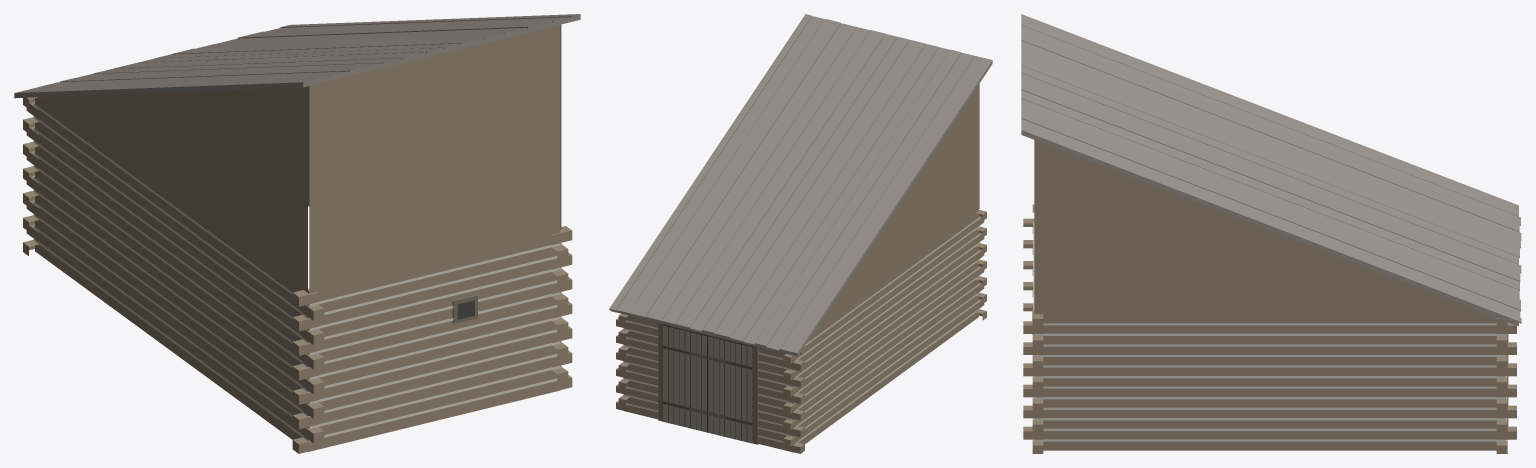
Rendered from north_bank_shed_dearborn_e2__shed_1835.glb.
3 renders of one model, left to right at view 1: azimuth 30°, elevation 25°; view 2: azimuth 150°, elevation 25°; view 3: azimuth 270°, elevation 25°, orthographic. The views are drawn at different scales.
Visible parts, largest first — view 1: north_bank_shed_dearborn_e2__shed_1835; view 2: north_bank_shed_dearborn_e2__shed_1835; view 3: north_bank_shed_dearborn_e2__shed_1835.
Part boxes in pixels (bbox=[...]): north_bank_shed_dearborn_e2__shed_1835: bbox=[14, 14, 580, 453]; north_bank_shed_dearborn_e2__shed_1835: bbox=[609, 14, 992, 453]; north_bank_shed_dearborn_e2__shed_1835: bbox=[1021, 14, 1521, 453].
Size of the model in its own units: 6.06 by 7.91 by 10.99.
